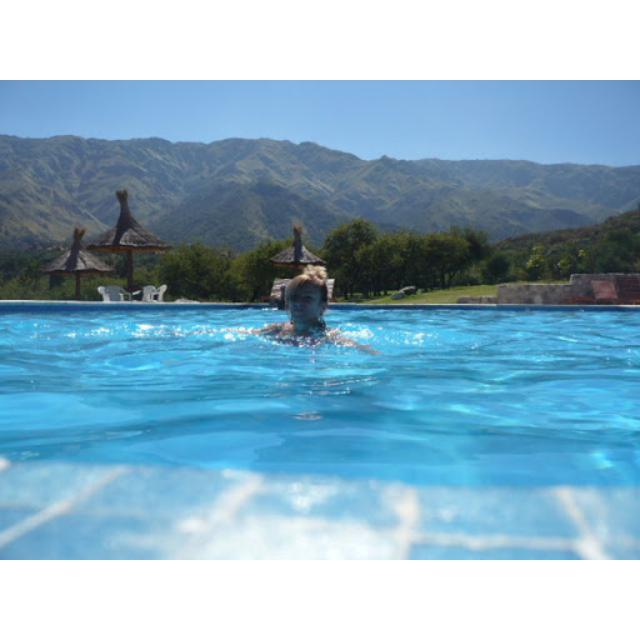human: (263, 264, 375, 356)
